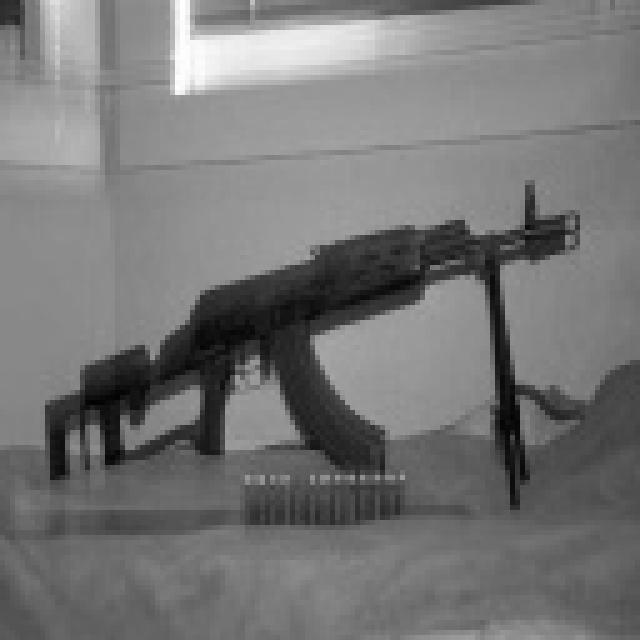Rifle: (0, 165, 640, 547)
